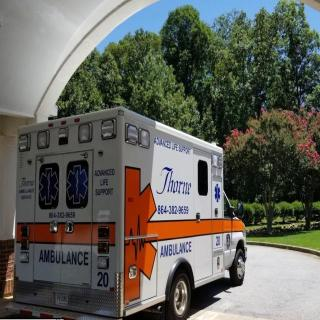Ambulance: (5, 98, 256, 316)
